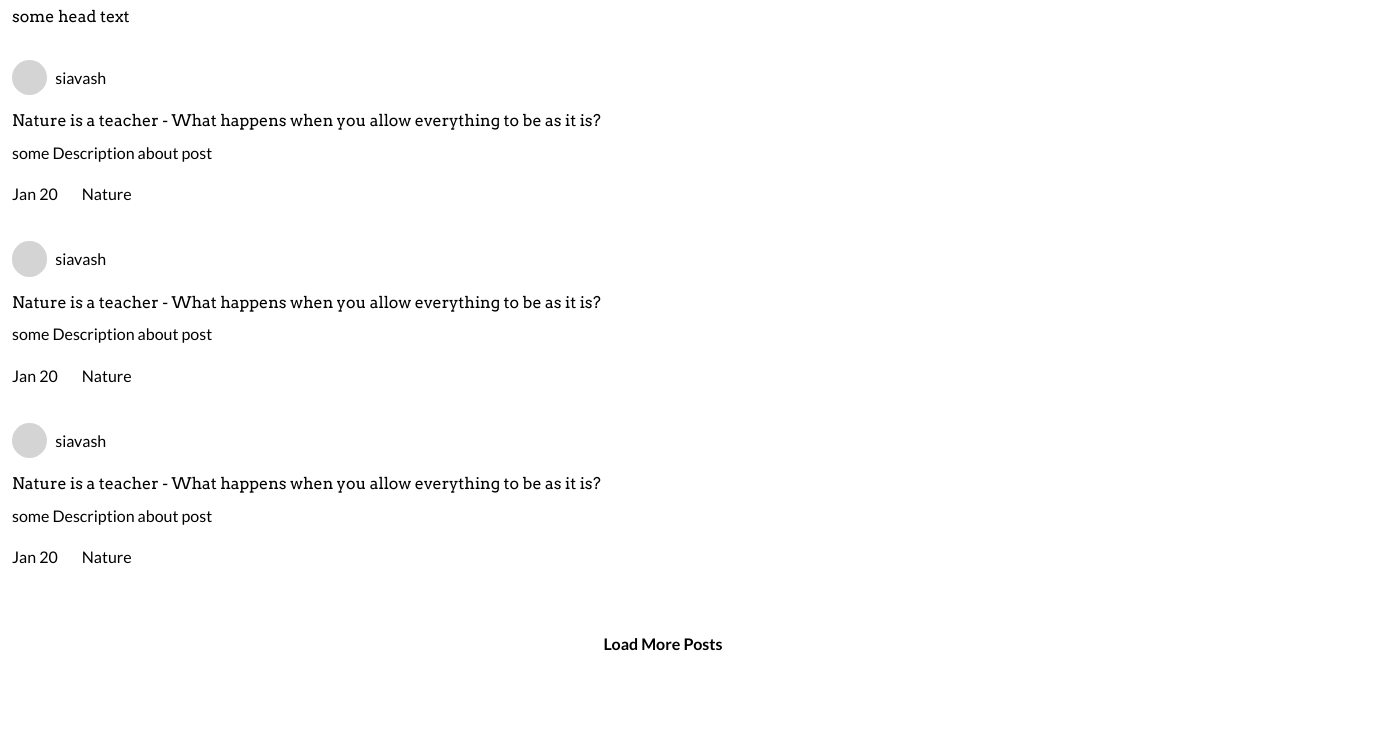
Scenario: Component Test : Post › if we click on the button if response is ok load more posts
Click the button with test id "lazyPostHolderButton". click: (663, 643)
box: [12,627,1314,659]
(page scrolled)
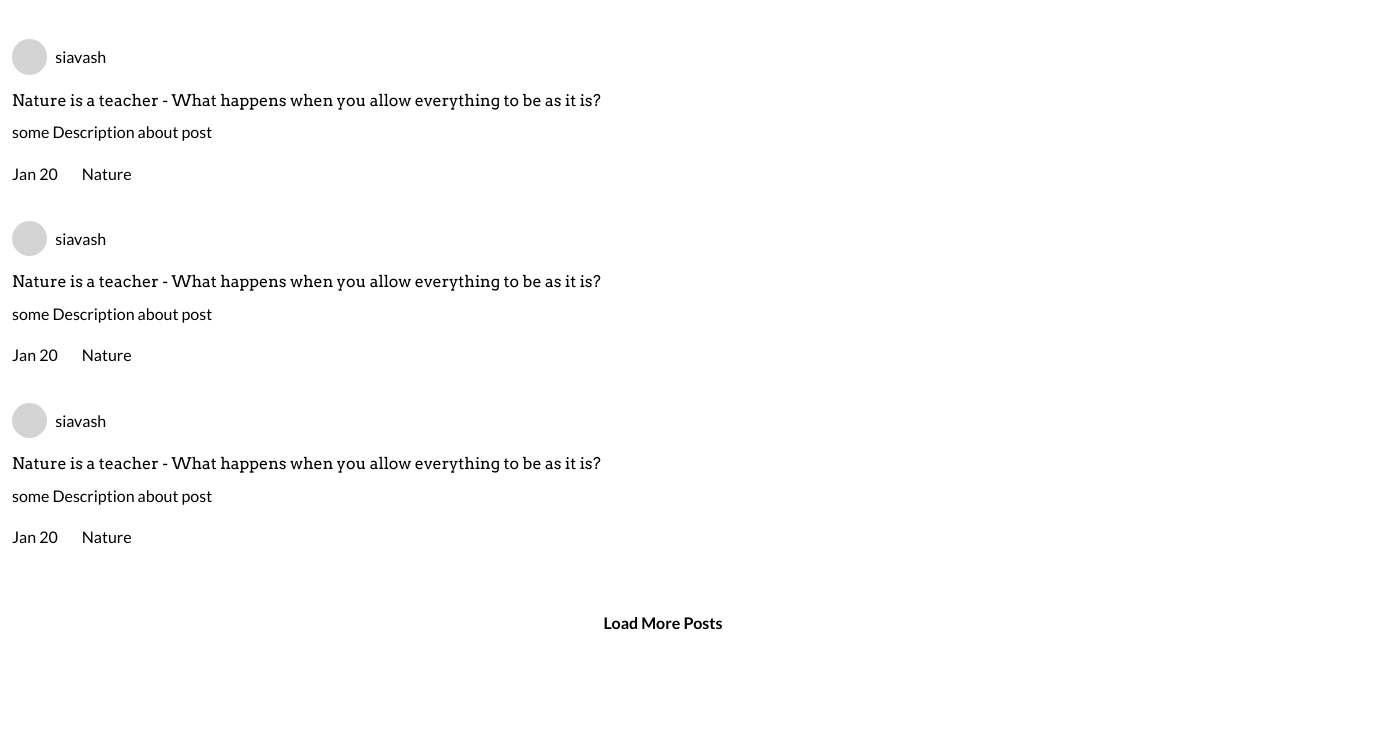
Now the element with test id "123" is shown, box [12,403,601,546]
